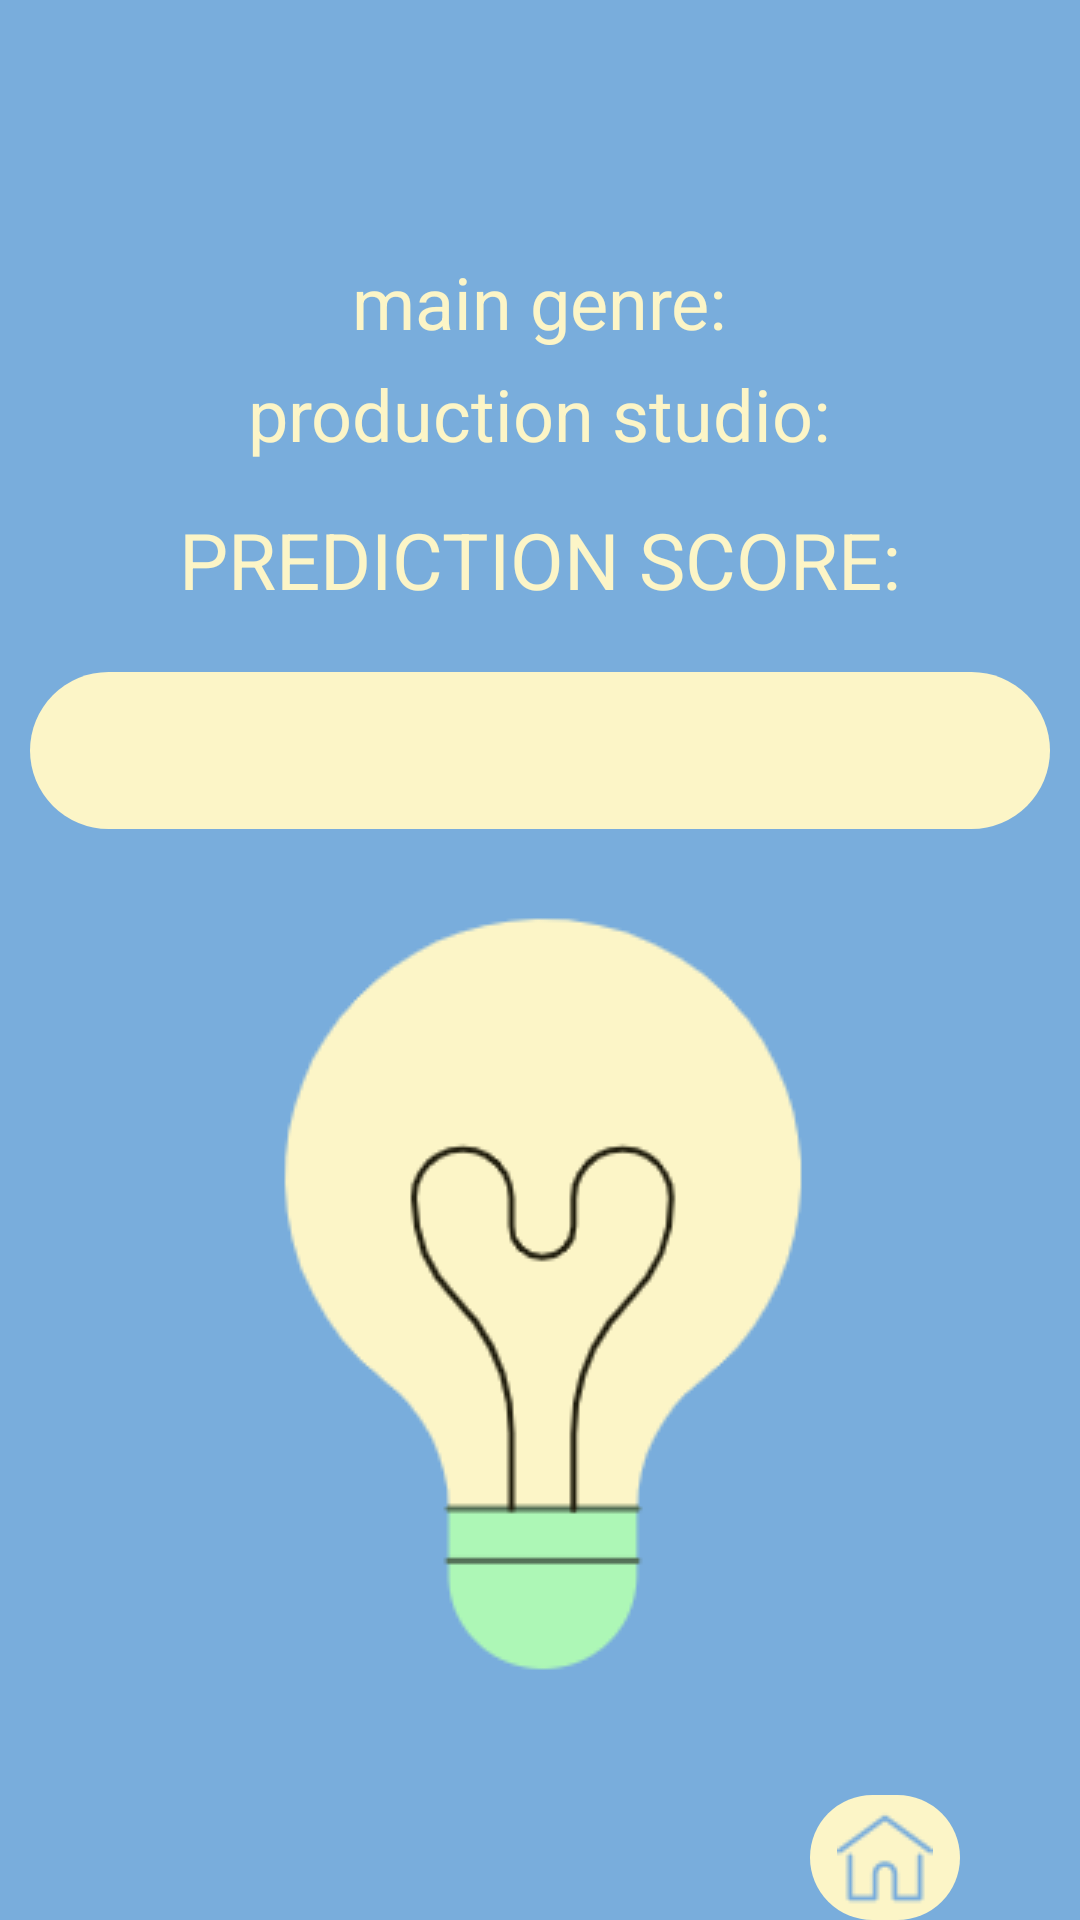

Icons on this 1080x1920 Android screen, each with the point to tap as point (x, y):
home: point (885, 1857)
